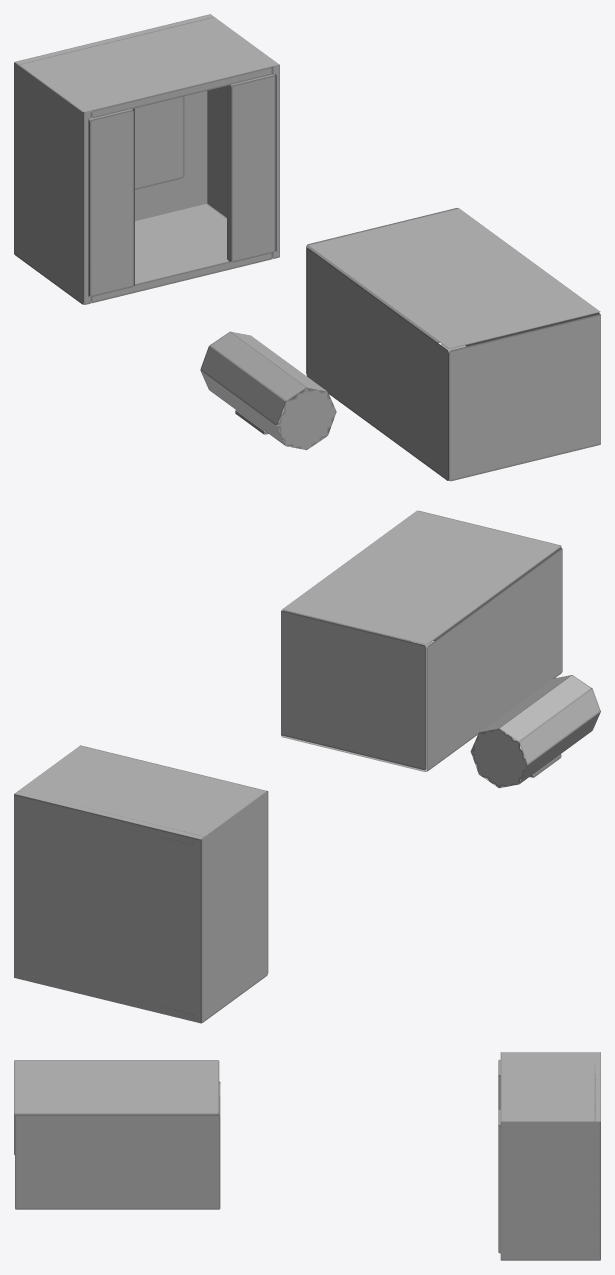
The model's file is contents_books_misc_01_53.obj.
3 views of the same model, one above another, from view 1: azimuth 30°, elevation 25°; view 2: azimuth 150°, elevation 25°; view 3: azimuth 270°, elevation 25° (orthographic). The views are drawn at different scales.
Visible parts, largest first — view 1: contents_books_misc_01_53; view 2: contents_books_misc_01_53; view 3: contents_books_misc_01_53.
Boxes of the visible parts, x1,y1,x2,y2 form: contents_books_misc_01_53: (14, 14, 600, 481); contents_books_misc_01_53: (14, 510, 600, 1023); contents_books_misc_01_53: (14, 1052, 600, 1260).
Bounding box in the file's own units: 0.432 × 0.295 × 1.11.
Materials: 1 (1 with a texture image).
